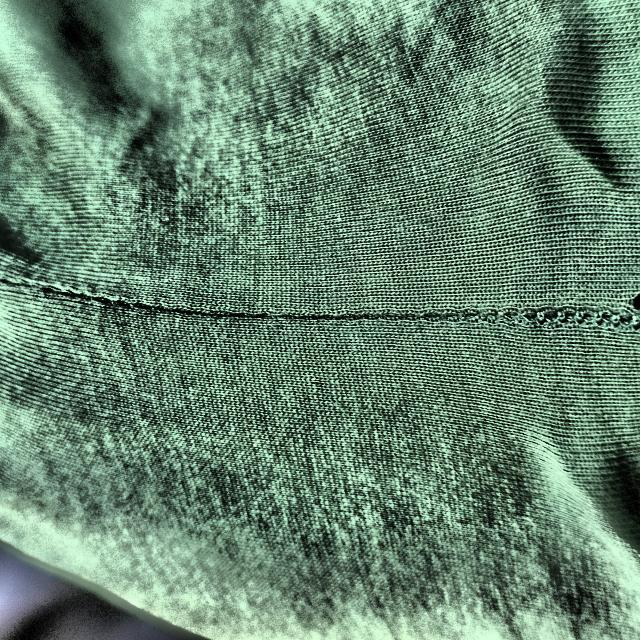Stitch: (485, 279, 640, 343)
